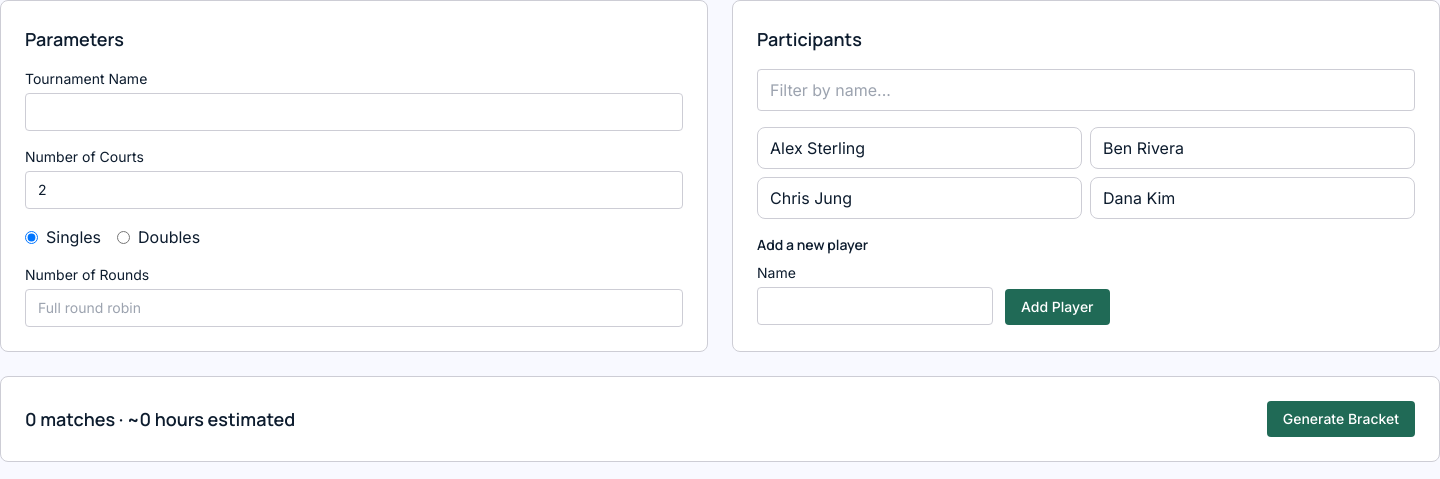
Test case: RoundRobinSetupForm › updates the singles match preview as participants are selected
Expected: the text "0 matches · ~0 hours estimated" is shown, [25, 405, 295, 433]
Click the checkbox labelled "Alex Sterling" at (818, 148), box [757, 127, 1082, 169]
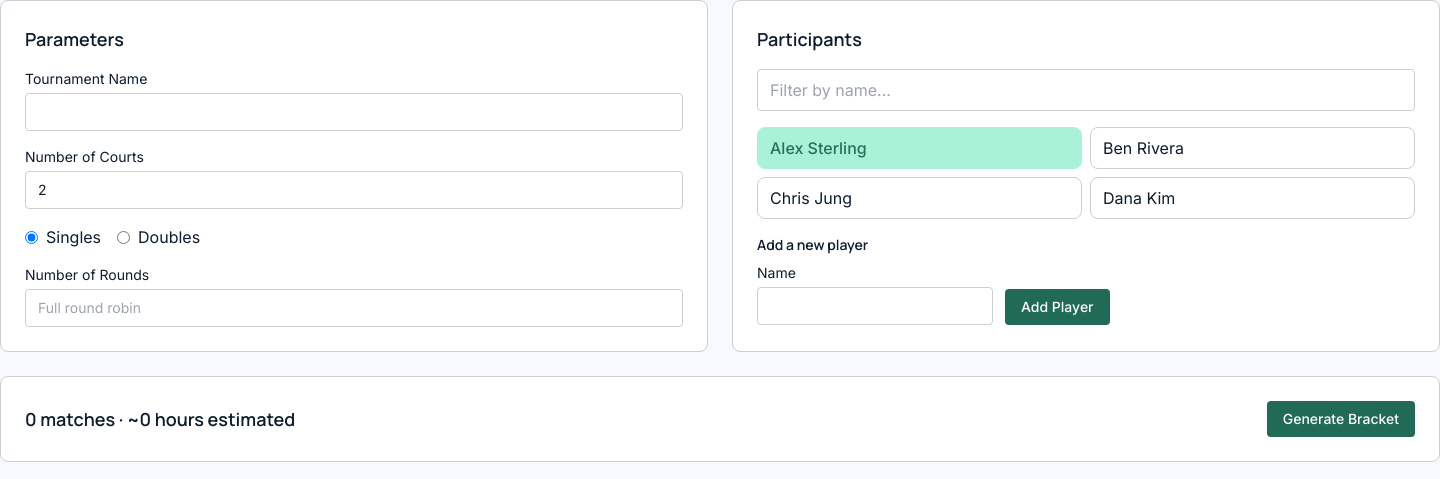
Click the checkbox labelled "Ben Rivera" at (1143, 148), box [1090, 127, 1415, 169]
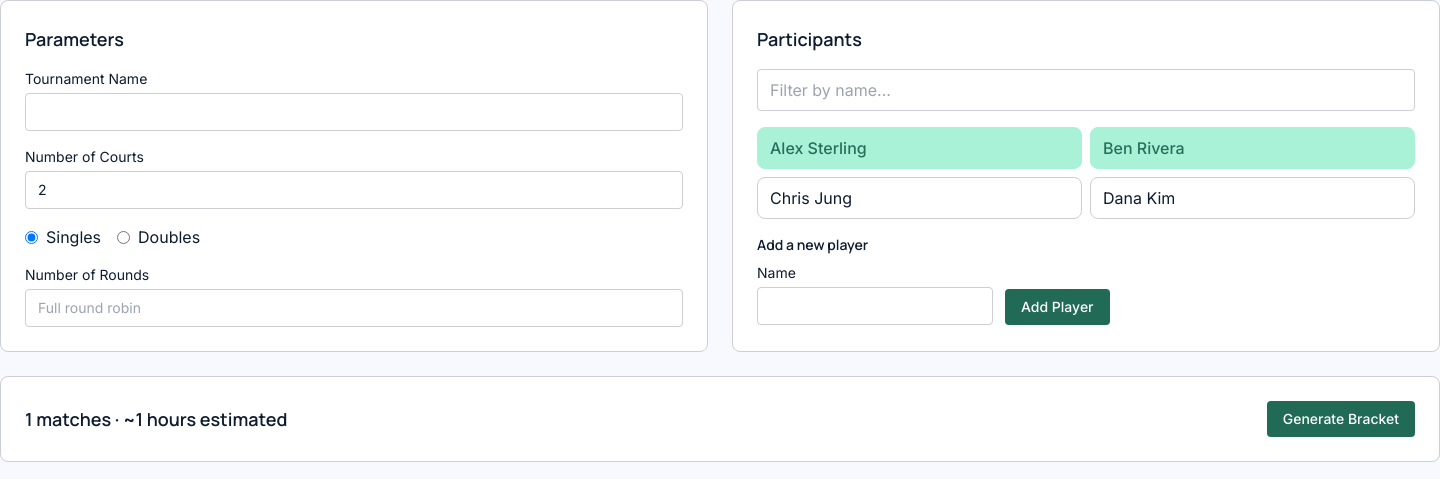
Click the checkbox labelled "Chris Jung" at (811, 198), box [757, 177, 1082, 219]
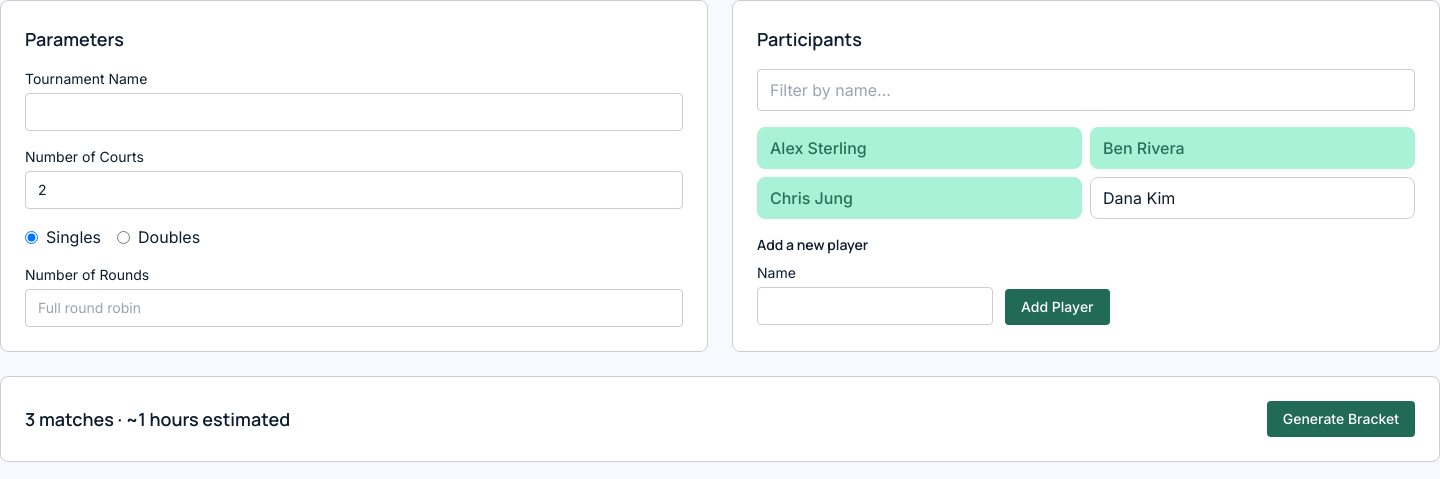
Click the checkbox labelled "Dana Kim" at (1139, 198), box [1090, 177, 1415, 219]
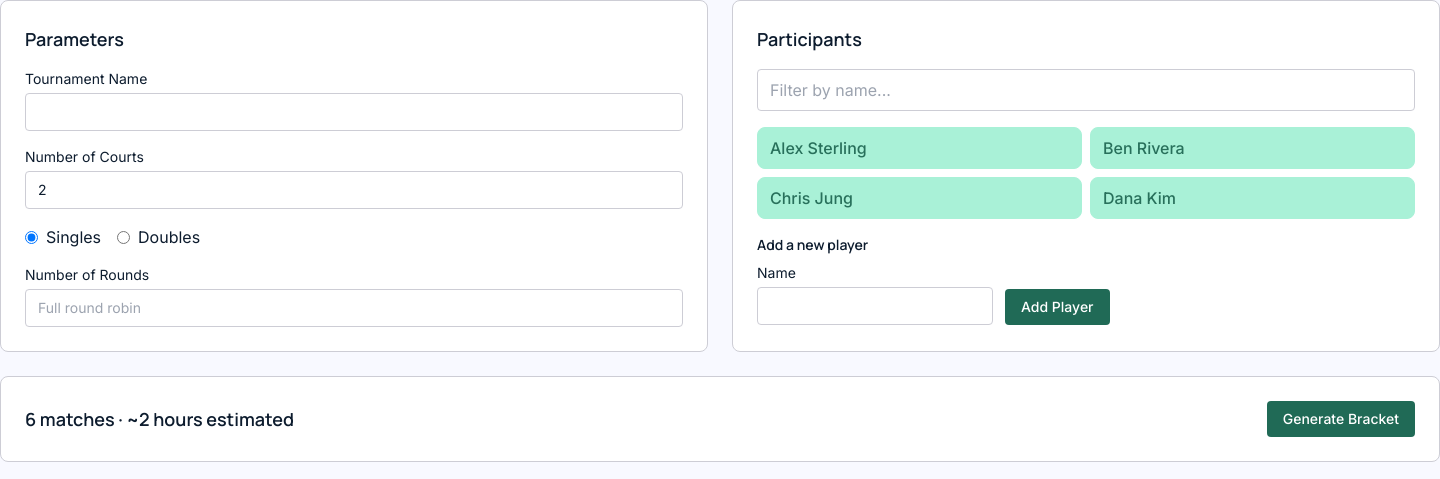
Expected: the text "6 matches · ~2 hours estimated" is shown, [25, 405, 294, 433]
